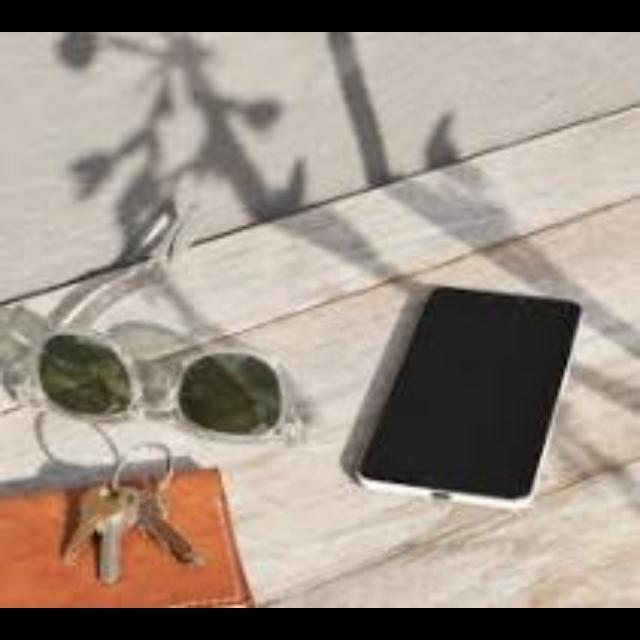PhoneUse: (358, 286, 582, 507)
